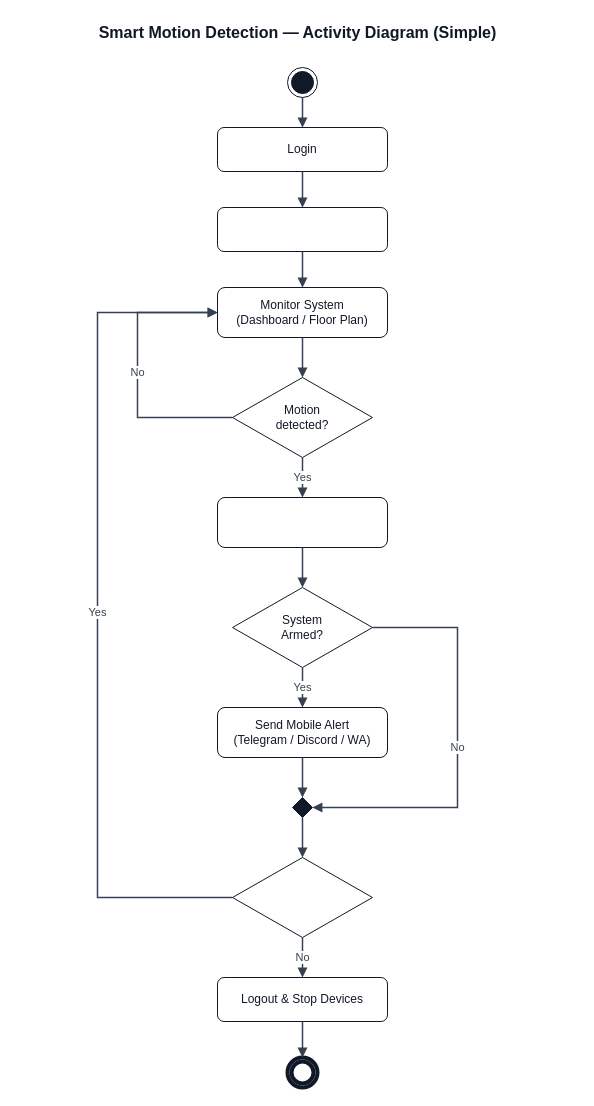
This 594x1106 diagram has some shape labels left out. Each missing label, with the centre of its shape:
"Continue monitoring?" goes at [302,897].
"Log Event + Snapshot + Show Desktop Alert" goes at [302,522].
"Start Camera & Serial" goes at [302,229].
